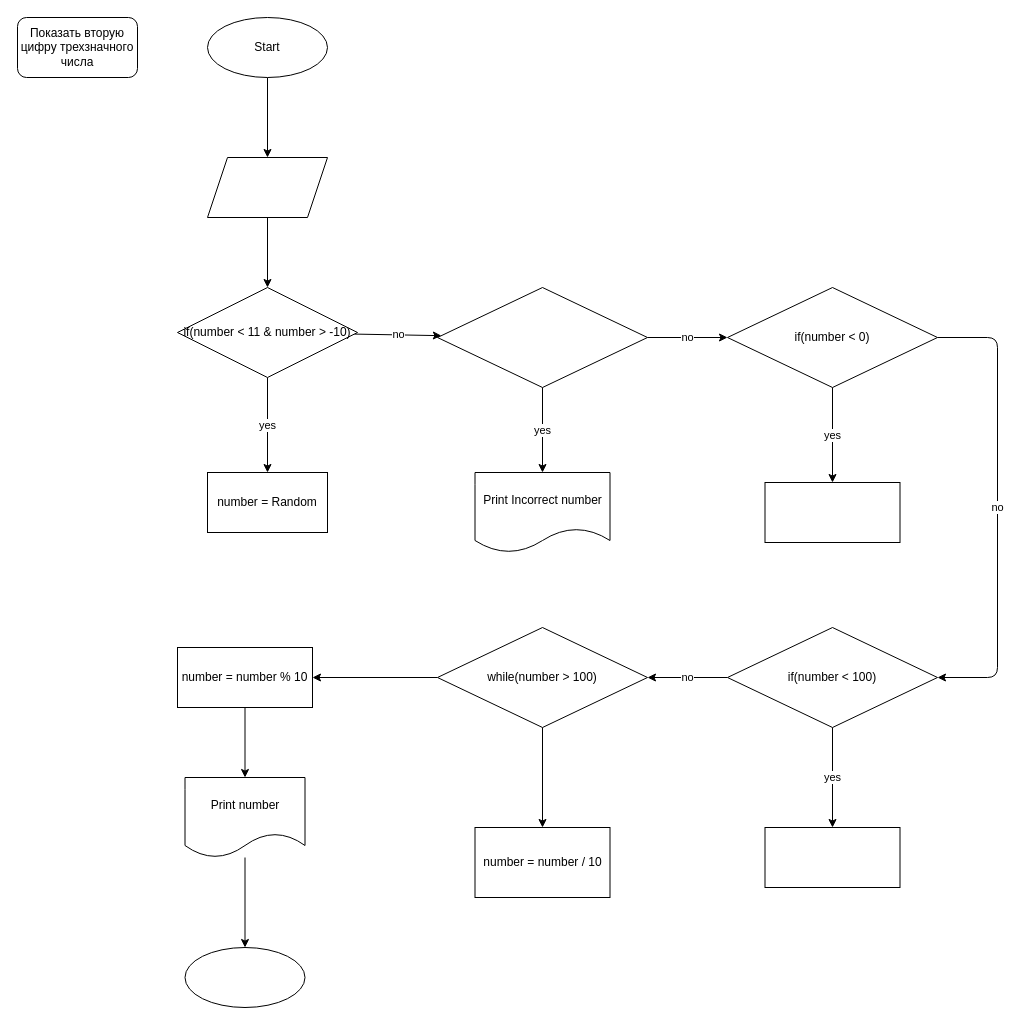
This 1023x1025 diagram has some shape labels left out. The box of each missing label's shape, as (x1, y1, x2, y2) in pixels:
End: (184, 946, 305, 1008)
if(number > 1000 | number < - 100): (436, 286, 648, 388)
number: (206, 156, 328, 218)
number = number * (-1): (764, 482, 900, 542)
number = number * 10: (764, 826, 900, 888)
